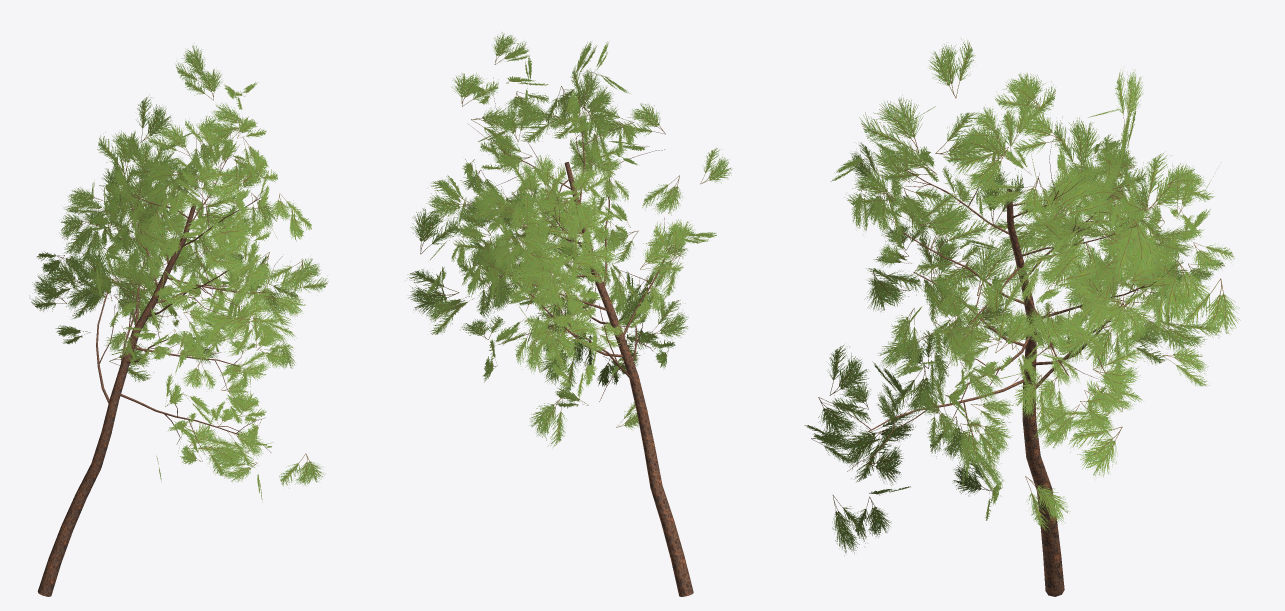
Rendered from AP4_AleppoPine_Windswept_9m.glb.
3 renders of one model, left to right at view 1: azimuth 30°, elevation 25°; view 2: azimuth 150°, elevation 25°; view 3: azimuth 270°, elevation 25°, orthographic. The views are drawn at different scales.
Parts seen in each view (by area): view 1: AP4_leaves, AP4_wood; view 2: AP4_leaves, AP4_wood; view 3: AP4_leaves, AP4_wood.
Boxes of the visible parts, x1,y1,x2,y2 form: AP4_leaves: [29, 45, 328, 502]; AP4_wood: [37, 125, 283, 596]; AP4_leaves: [407, 32, 731, 446]; AP4_wood: [456, 74, 693, 596]; AP4_leaves: [804, 38, 1240, 554]; AP4_wood: [823, 142, 1175, 596].
Size of the model in its own units: 5.14 by 9.04 by 6.08.
2 materials, 2 textured.
